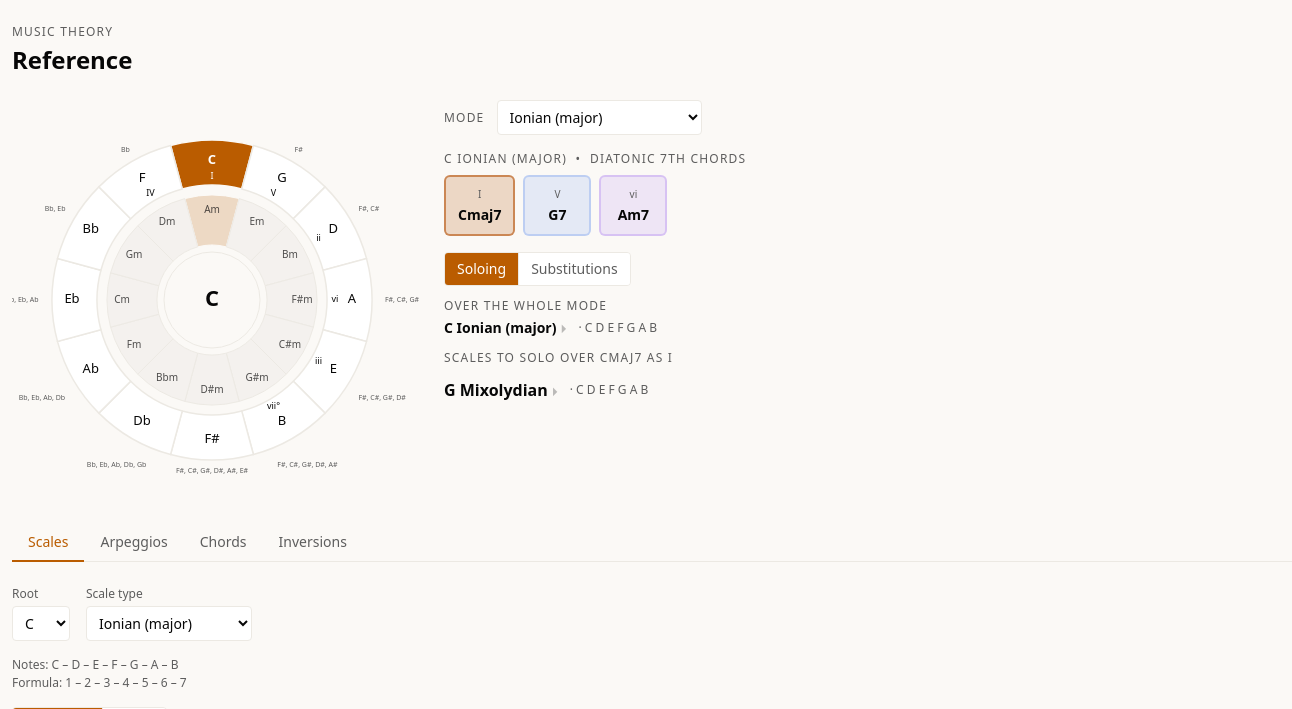
ReferencePage › switches to Chords panel when Chords tab is clicked
Click the tab "Chords". click: (223, 543)
box: [184, 524, 262, 562]
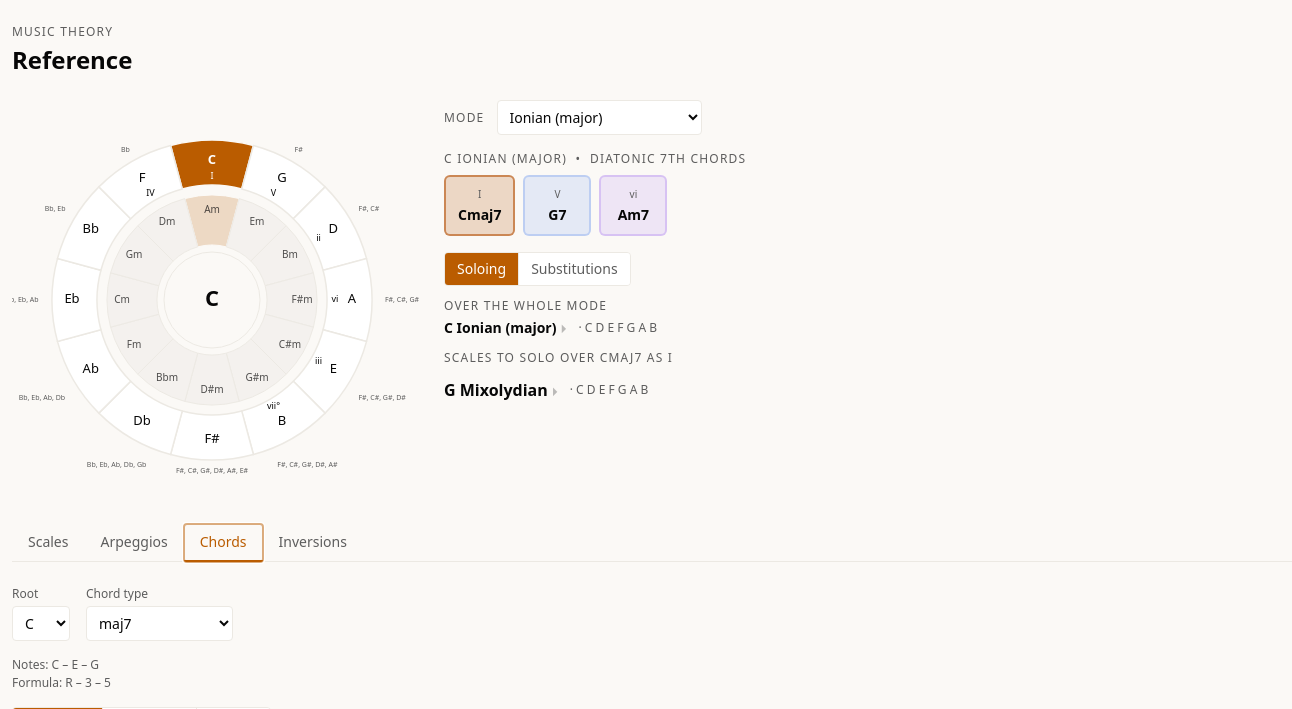
Expected: the dropdown labelled "Chord type" is shown, [86, 606, 233, 641]
